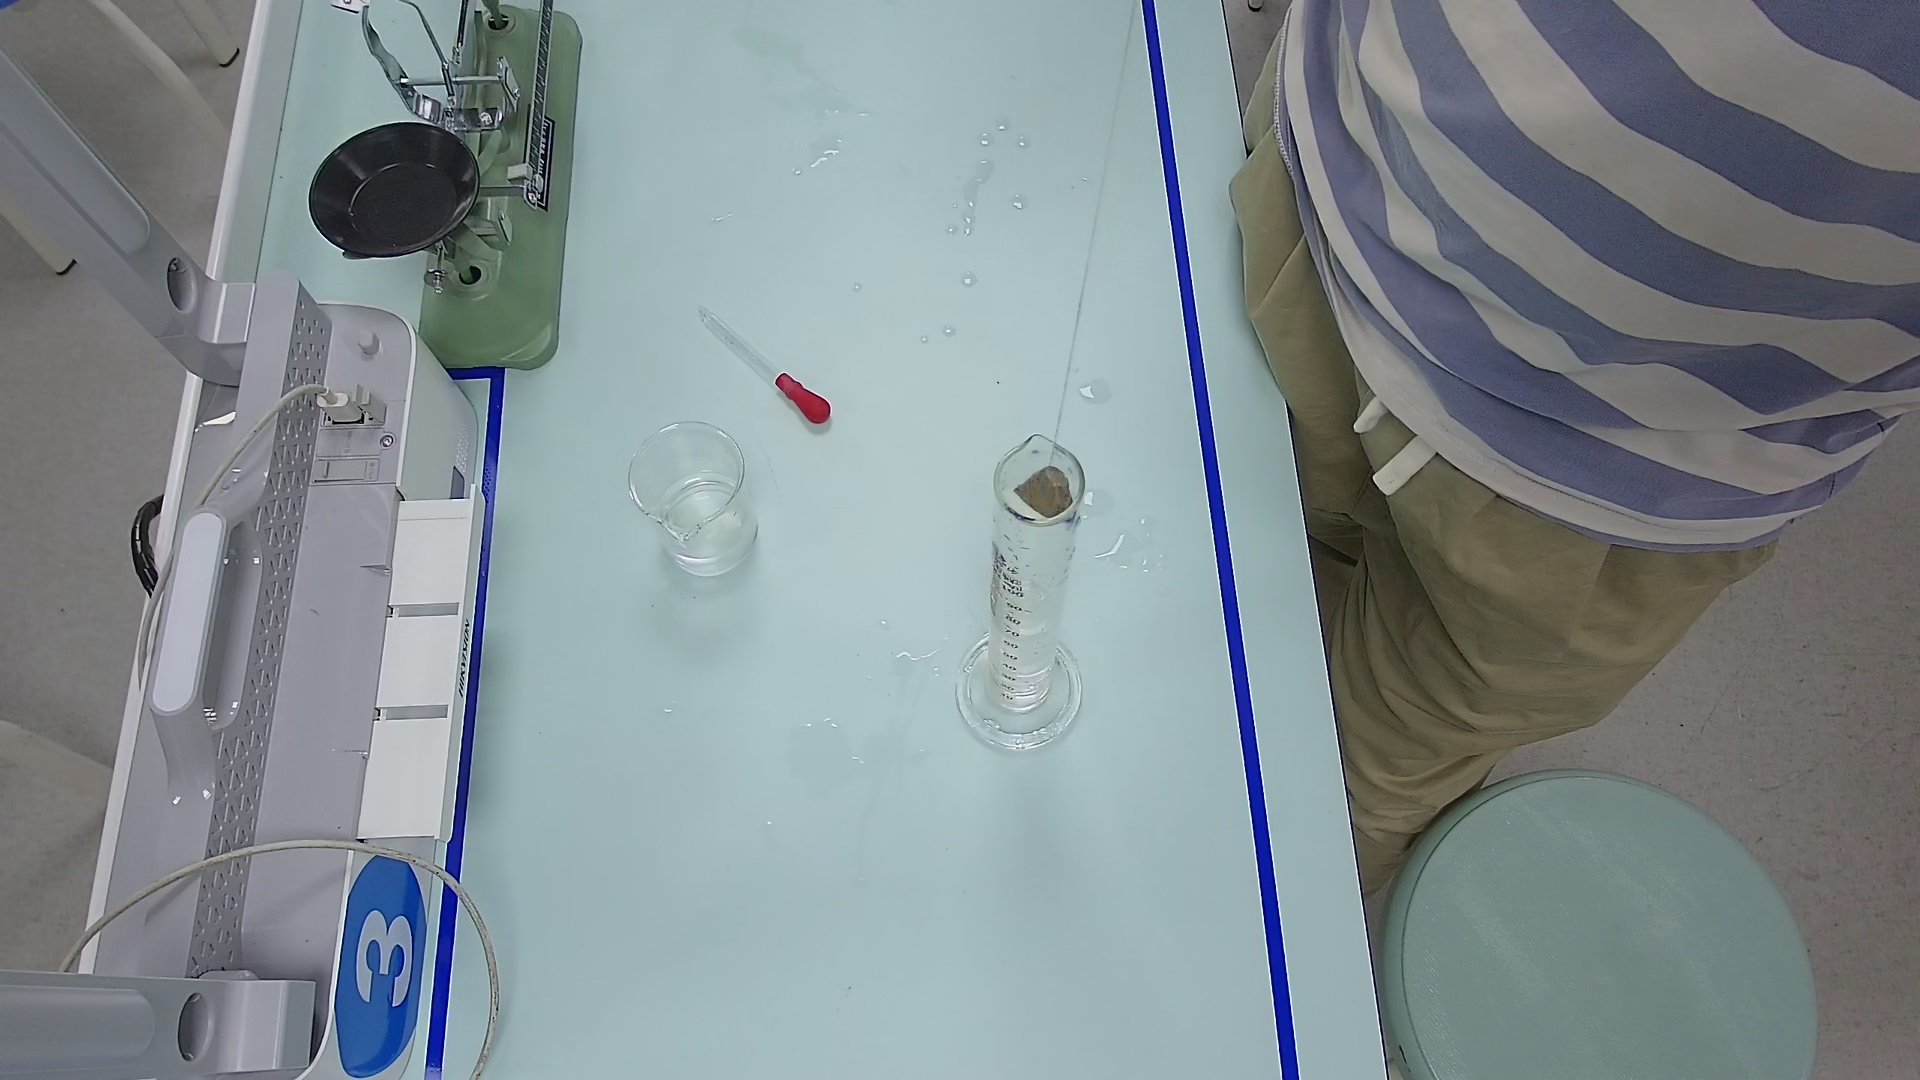ao: (990, 582, 1071, 633)
bei: (622, 415, 758, 587)
diguan: (690, 291, 831, 433)
diguantou: (771, 375, 829, 436)
liangdi: (951, 632, 1091, 761)
liangtong: (949, 436, 1087, 761)
shi: (1023, 465, 1067, 527)
tuo: (298, 121, 484, 270)
